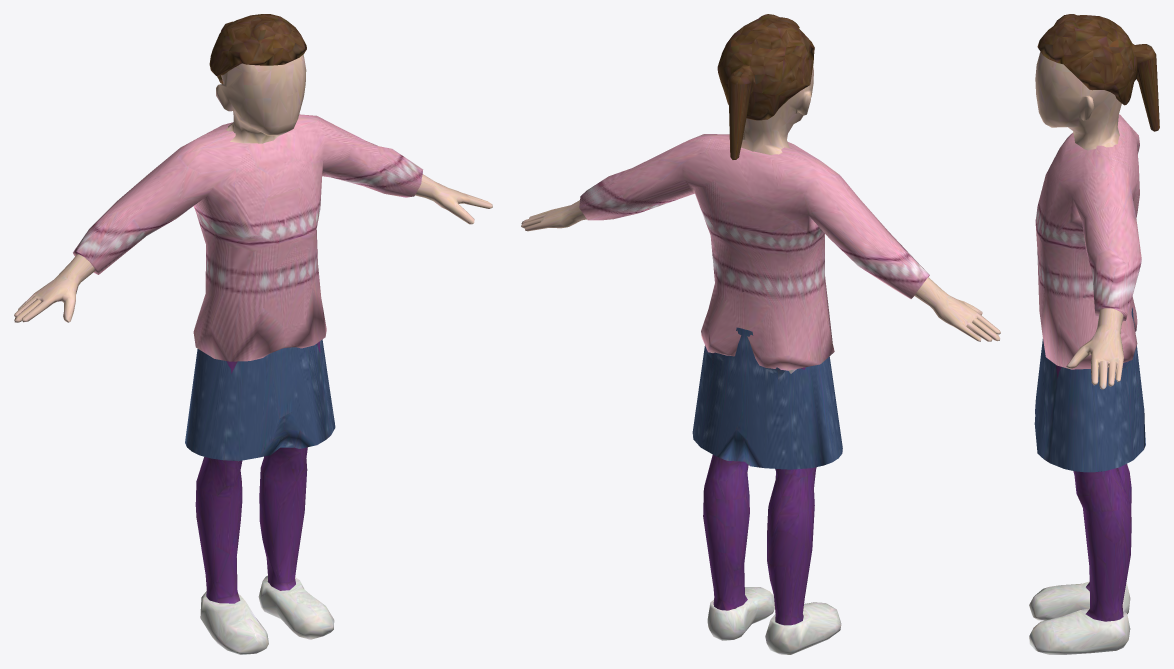
Rendered from npc_x_girl2.glb.
3 renders of one model, left to right at view 1: azimuth 30°, elevation 25°; view 2: azimuth 150°, elevation 25°; view 3: azimuth 270°, elevation 25°, orthographic.
Visible parts, largest first — view 1: Human; view 2: Human; view 3: Human.
Part boxes in pixels (left/top/right/bottom): Human: left=14, top=14, right=492, bottom=654; Human: left=521, top=14, right=1000, bottom=654; Human: left=1029, top=14, right=1159, bottom=654.
Size of the model in its own units: 1.12 by 1.37 by 0.2655.
1 material, 1 textured.
